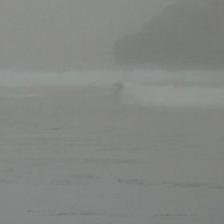surfer: (114, 82, 124, 91)
